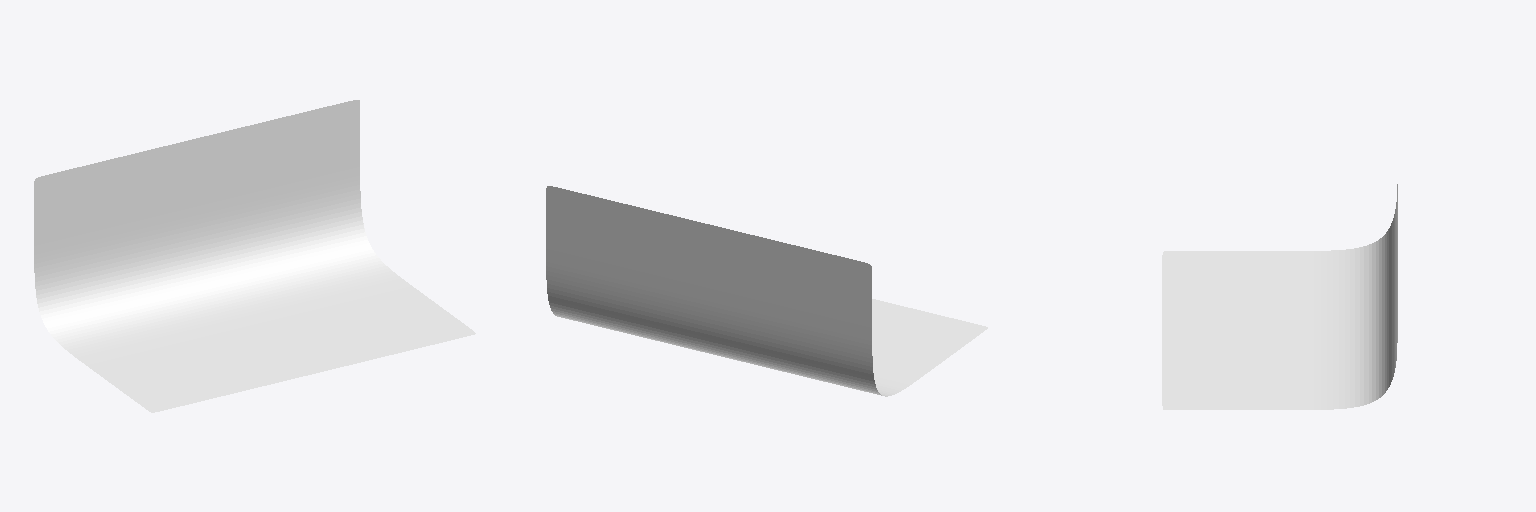
File: StudioL.obj
3 views of the same model, side by side, from view 1: azimuth 30°, elevation 25°; view 2: azimuth 150°, elevation 25°; view 3: azimuth 270°, elevation 25° (orthographic).
Parts seen in each view (by area): view 1: Studio_L_Plane.003; view 2: Studio_L_Plane.003; view 3: Studio_L_Plane.003.
Part boxes in pixels (x1,y1,x2,y2): Studio_L_Plane.003: (34,100,475,412); Studio_L_Plane.003: (546,186,987,396); Studio_L_Plane.003: (1162,184,1397,409).
Bounding box in the file's own units: 32 × 14 × 20.